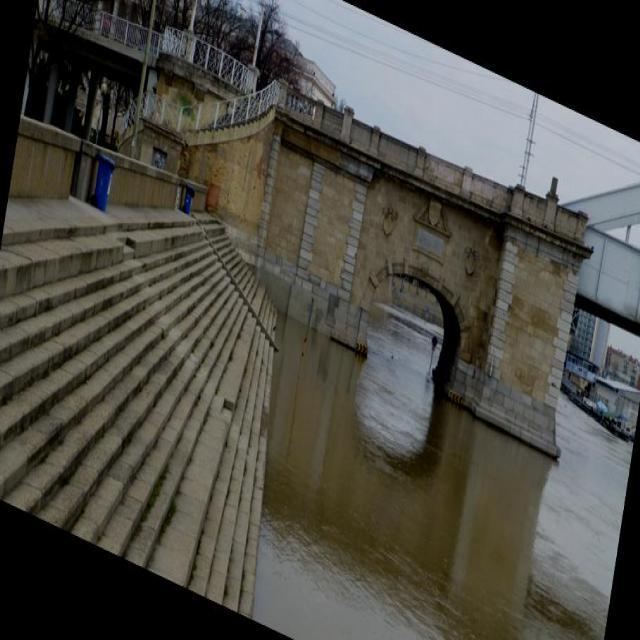flood: (228, 291, 631, 639)
